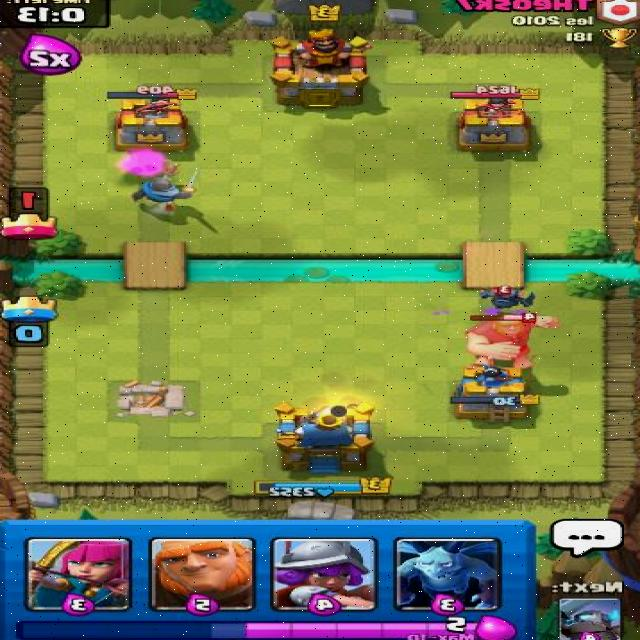Enemy-Giant: (461, 311, 558, 371)
Enemy-MiniPEKKA: (476, 285, 538, 311)
Player-Knight: (127, 167, 204, 212)
